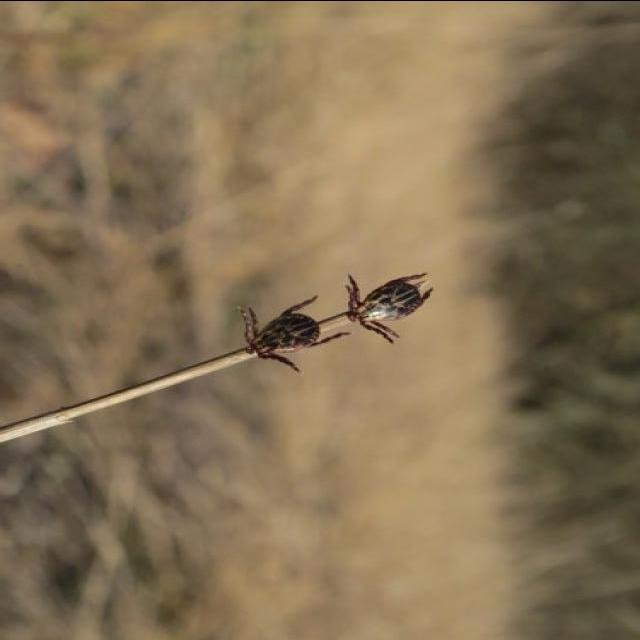Dermacentor Reticulatus-M: (237, 296, 350, 372), (346, 271, 433, 342)
